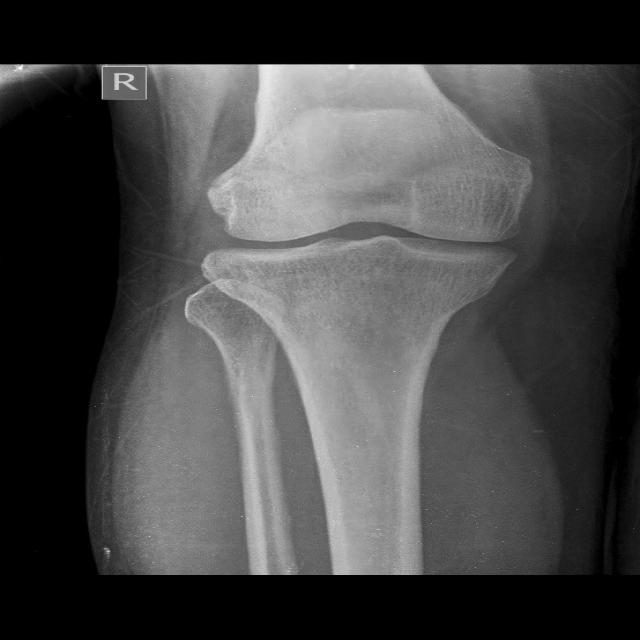osteo: (197, 160, 540, 297)
